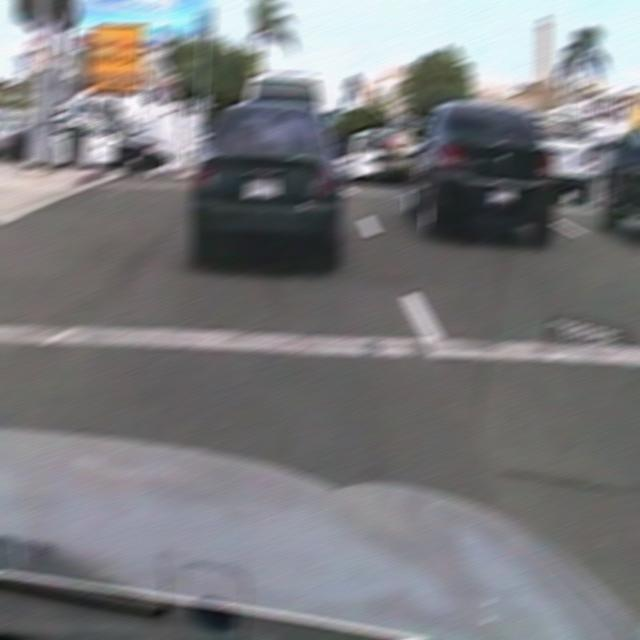noLeftTurn: (26, 36, 55, 69)
